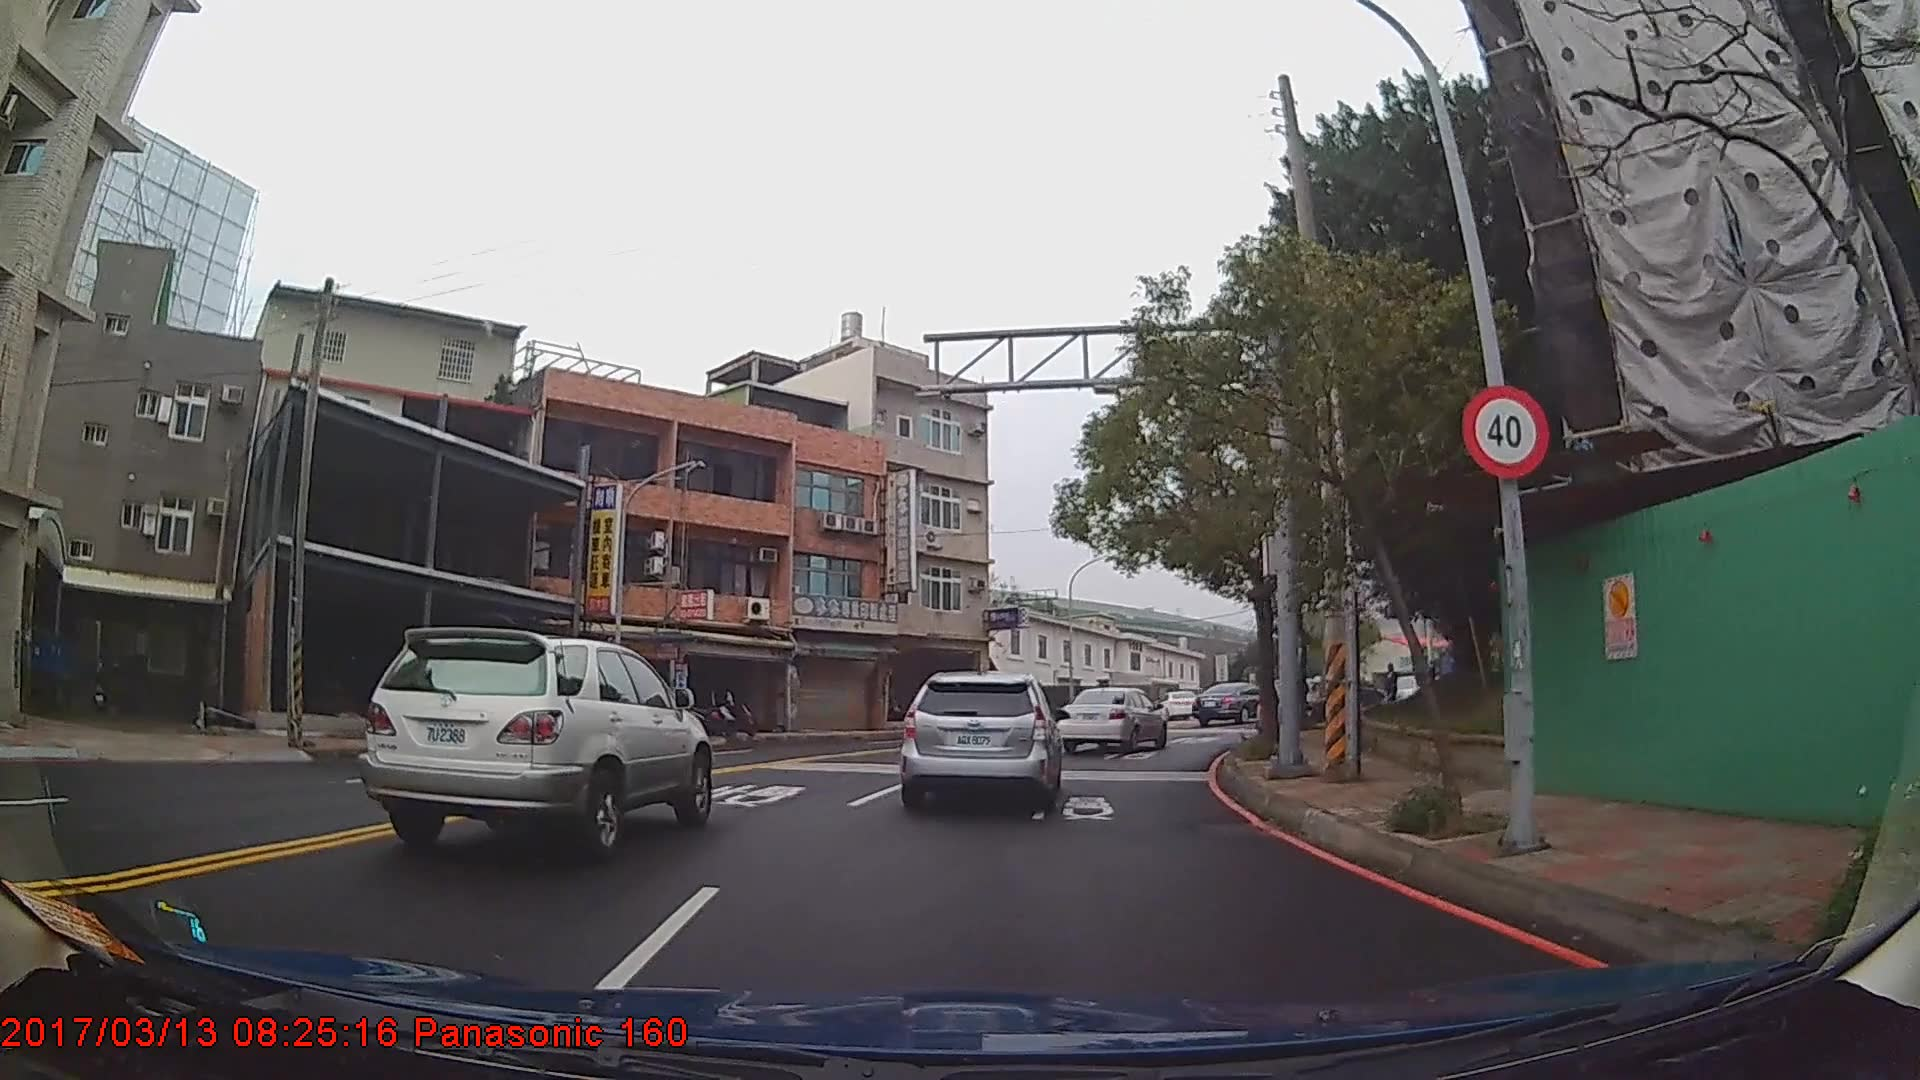vehicle: (357, 624, 713, 857), (899, 669, 1063, 812), (1055, 686, 1168, 752), (1189, 680, 1273, 727)
